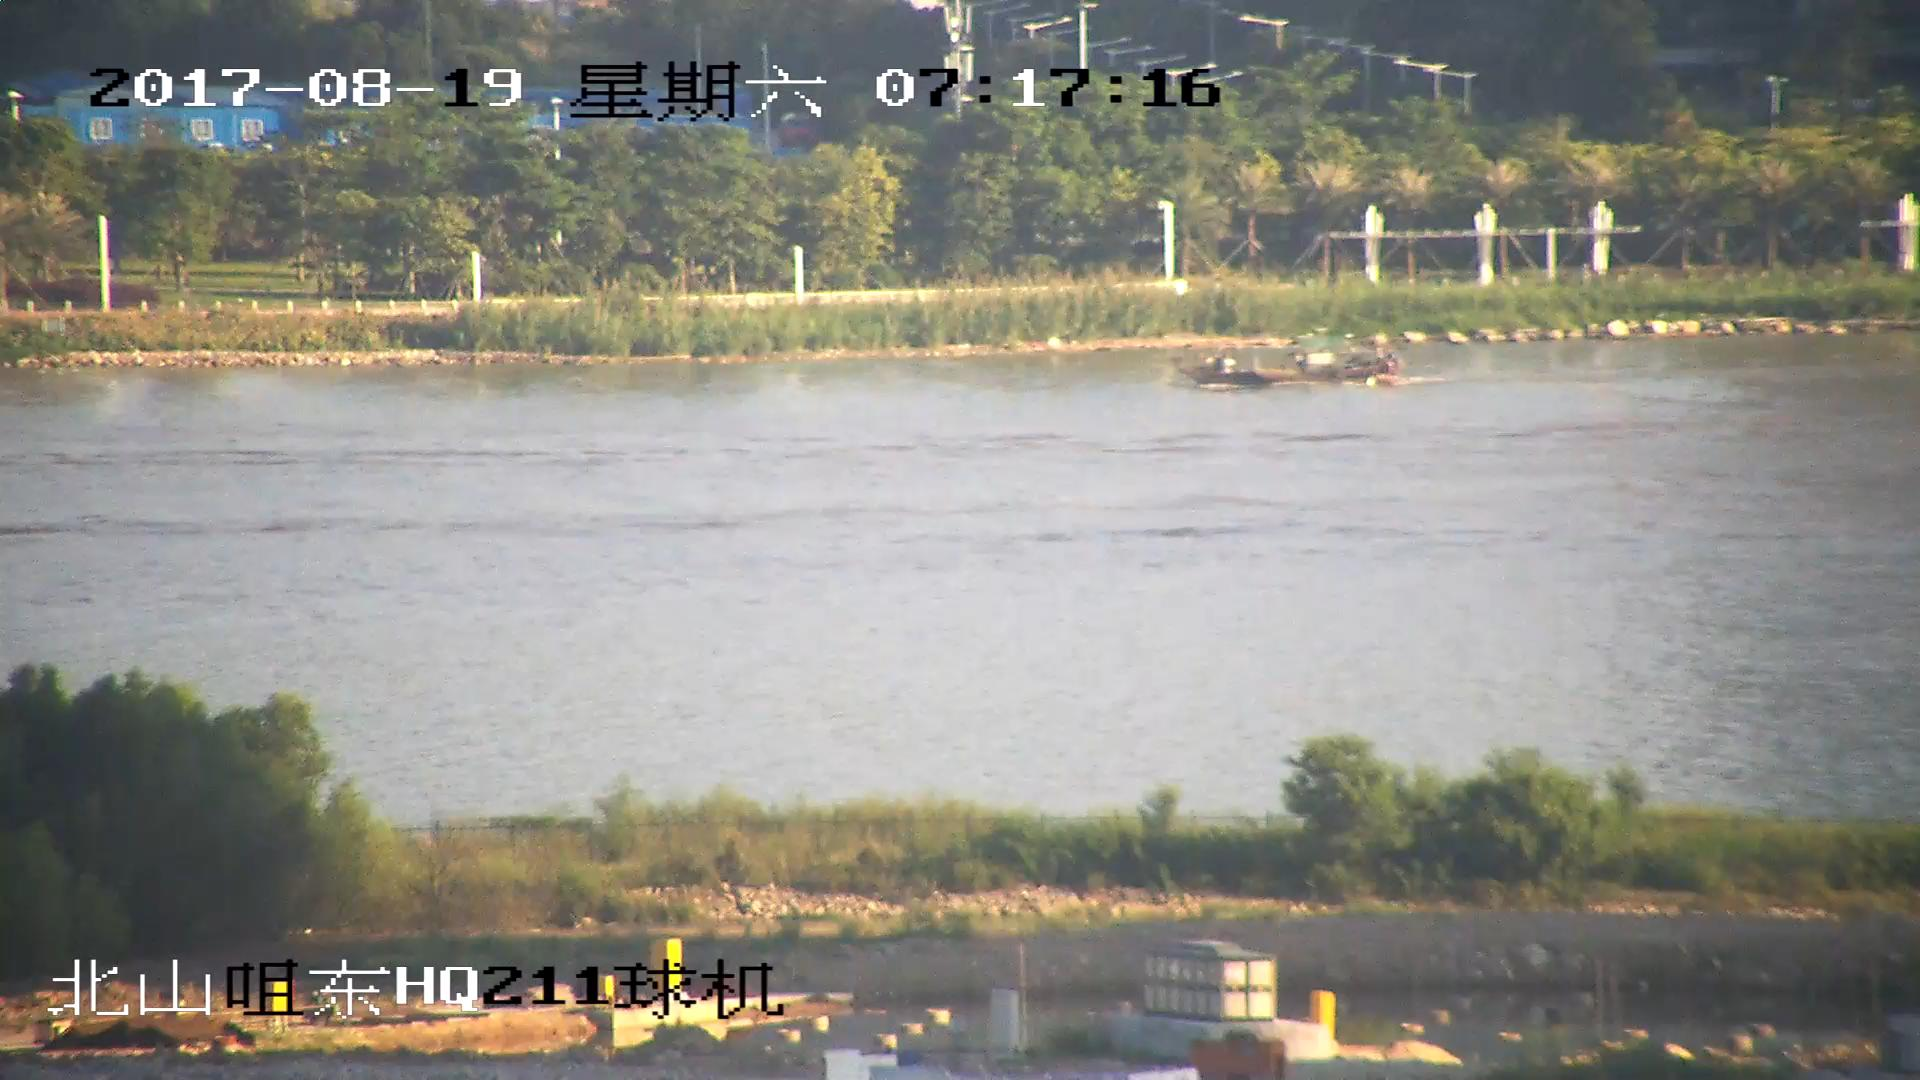fishing boat: (1188, 345, 1402, 392)
